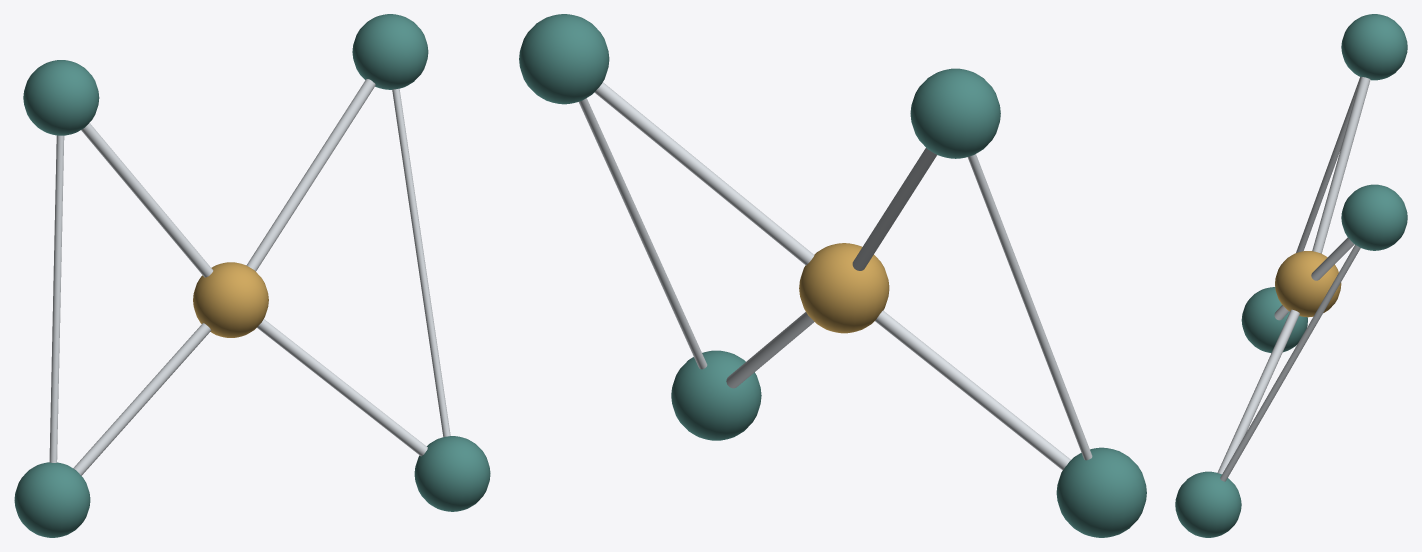
Rendered from network.glb.
The picture shows the model from 3 angles, left to right: view 1: azimuth 30°, elevation 25°; view 2: azimuth 150°, elevation 25°; view 3: azimuth 270°, elevation 25°; orthographic projection. The views are drawn at different scales.
Parts seen in each view (by area): view 1: network; view 2: network; view 3: network.
Part boxes in pixels (bbox=[...]): network: bbox=[14, 14, 490, 537]; network: bbox=[519, 14, 1146, 537]; network: bbox=[1175, 14, 1407, 537].
Bounding box in the file's own units: 1.4 × 1.3 × 0.7.
